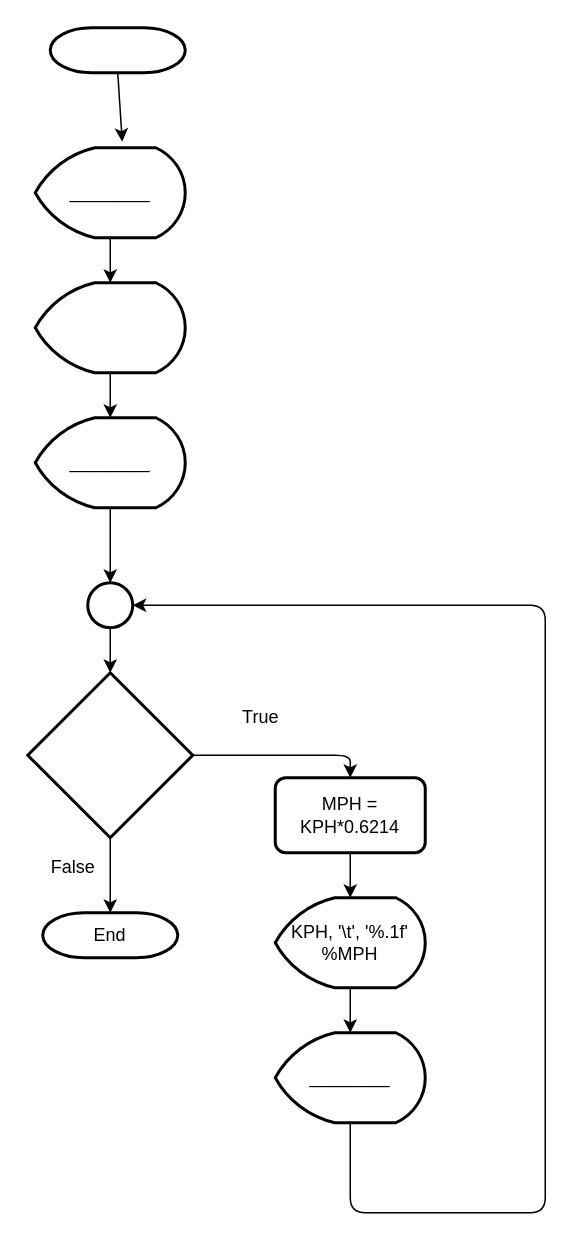
Some shapes in this 584 by 1251 pixel diagram are drawn without their labels. The box of each missing label's shape, as (x1, y1, x2, y2) in pixels:
KPH in range(60, 140, 10): (26, 670, 194, 838)
KPH\t MPH: (33, 280, 186, 374)
Start: (48, 26, 186, 74)
